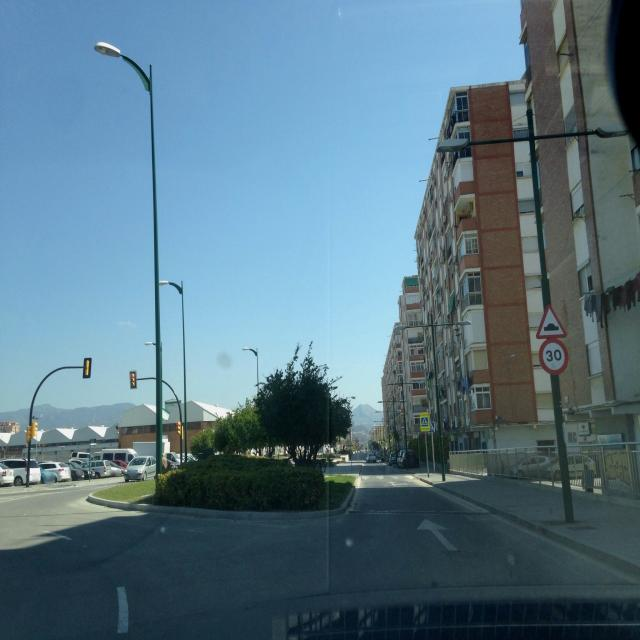car: (542, 453, 596, 480), (0, 457, 44, 486), (510, 454, 551, 478), (124, 456, 160, 482), (88, 459, 123, 478), (40, 462, 72, 482), (62, 460, 90, 480), (401, 450, 420, 470), (0, 461, 14, 487), (162, 452, 181, 469), (397, 448, 408, 468), (387, 452, 398, 466), (366, 452, 377, 464)
